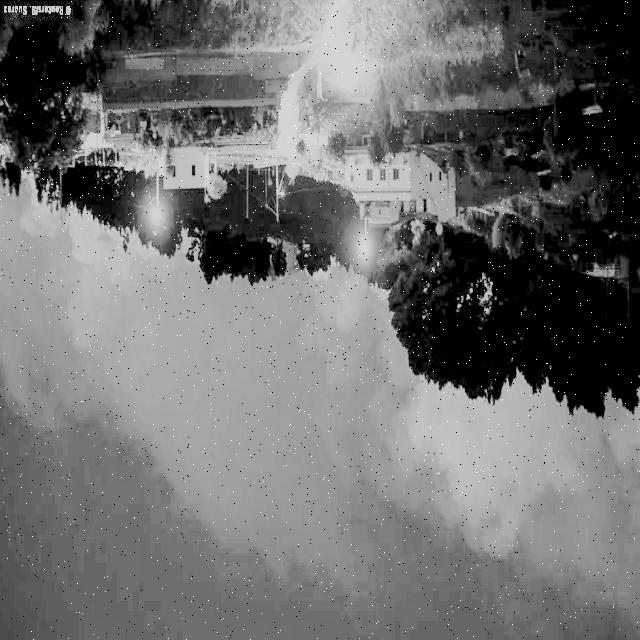asap: (399, 354, 640, 560), (13, 171, 199, 379), (292, 243, 410, 496)
